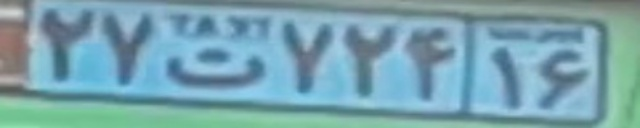1: (493, 45, 521, 109)
2: (340, 23, 395, 97), (38, 6, 91, 82)
4: (404, 28, 454, 99)
6: (100, 9, 154, 85), (535, 47, 594, 108)
7: (282, 20, 331, 92)
te: (163, 46, 263, 86)
